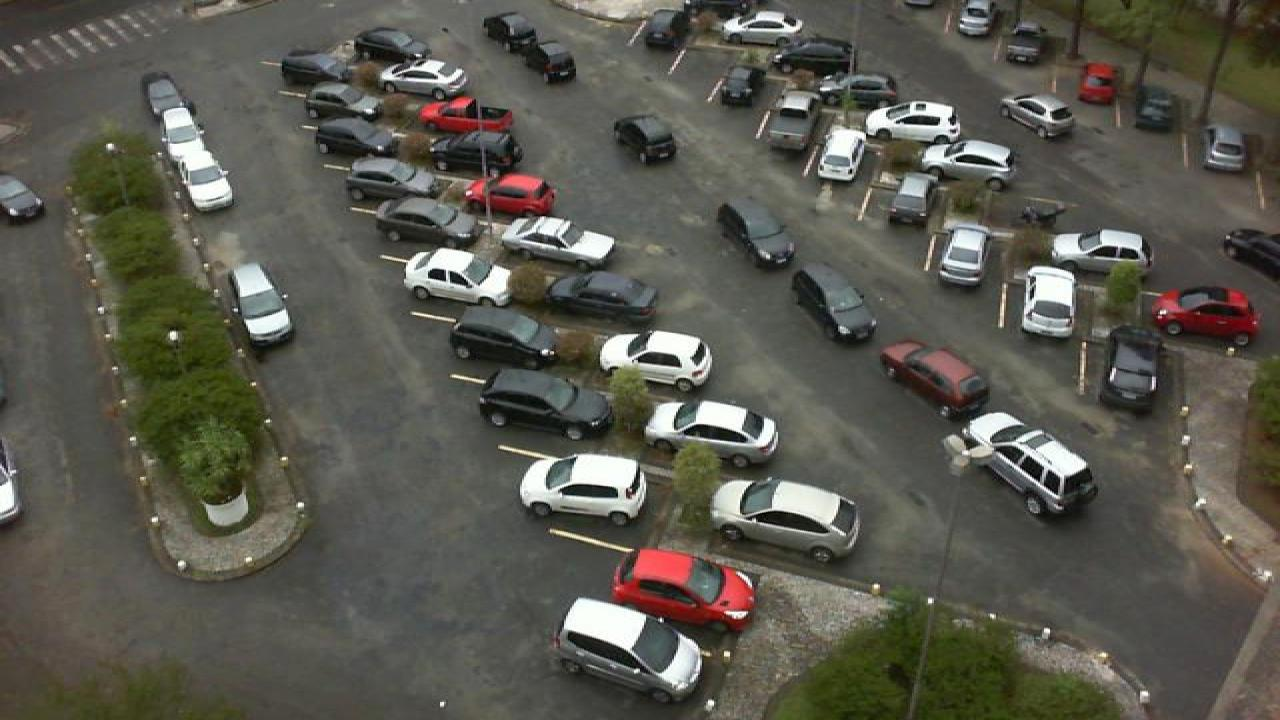Car: (554, 598, 702, 704), (962, 410, 1102, 518), (710, 477, 860, 564), (608, 547, 756, 630), (476, 367, 616, 439), (642, 399, 782, 468), (518, 452, 648, 526), (876, 340, 992, 416), (790, 262, 880, 346), (598, 330, 716, 391), (450, 304, 558, 368), (402, 246, 514, 306), (544, 270, 660, 327), (500, 215, 618, 268), (1148, 286, 1260, 341), (1098, 325, 1166, 414), (716, 196, 798, 269), (228, 261, 296, 345), (370, 196, 478, 245), (1052, 228, 1152, 276), (464, 171, 558, 217), (342, 156, 436, 202), (918, 138, 1012, 184), (426, 132, 524, 176), (864, 100, 962, 144), (1020, 264, 1078, 338), (418, 94, 514, 134), (178, 146, 236, 212), (378, 59, 470, 99), (764, 90, 824, 151), (936, 224, 992, 288), (310, 116, 400, 155), (816, 70, 900, 111), (1000, 94, 1076, 138), (614, 114, 676, 166), (882, 171, 940, 226), (814, 127, 870, 182), (350, 26, 432, 63), (722, 9, 804, 46), (302, 82, 382, 119), (776, 36, 852, 74), (158, 106, 208, 163), (280, 50, 352, 84), (138, 72, 186, 122), (716, 64, 766, 107), (528, 38, 576, 82), (1134, 84, 1178, 130), (1204, 125, 1248, 171), (998, 20, 1044, 64), (1076, 61, 1118, 106), (482, 12, 534, 48), (638, 9, 680, 51), (956, 0, 992, 36)
